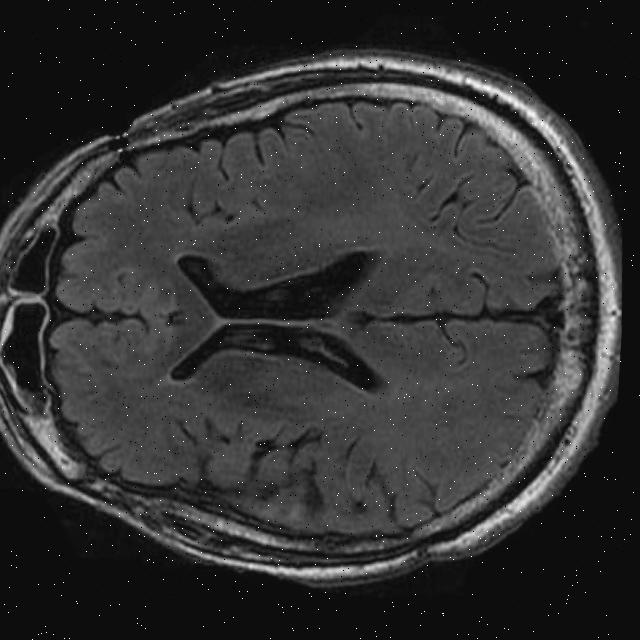NoTumor: (21, 67, 595, 571)
